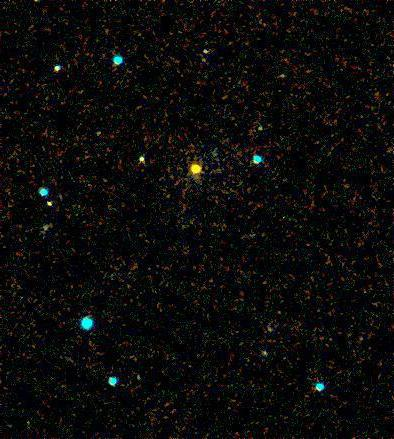star: (182, 153, 212, 183)
